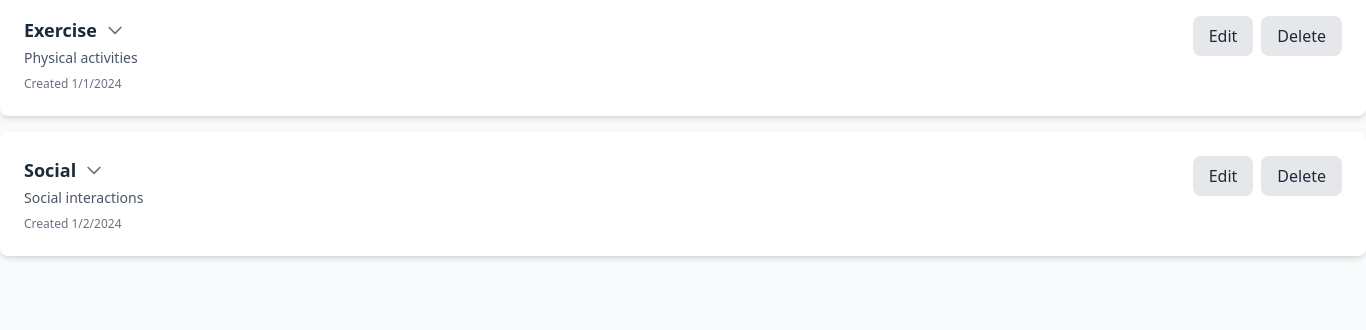
ActivityGroupList › Expand/Collapse Functionality (Task 3.3) › should toggle group expansion on click
Note: Click to expand
Click the button named "Expand group" next to "Exercise" at {"x": 115, "y": 30}, box [105, 20, 125, 40]
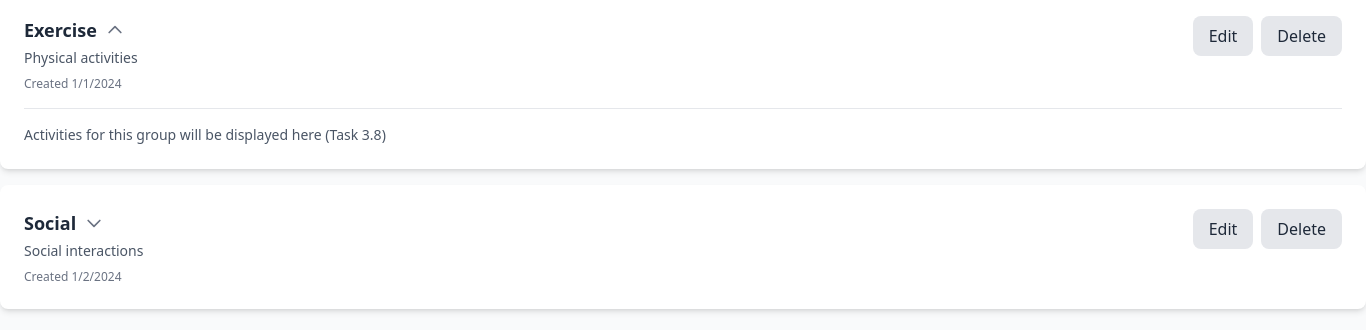
Result: the text "Activities for this group will be displayed here (Task 3.8)" is shown at [24, 125, 386, 144]
Result: the button named "Collapse group" is shown
Note: Click to collapse
Click the button named "Collapse group" at {"x": 115, "y": 30}, box [105, 20, 125, 40]
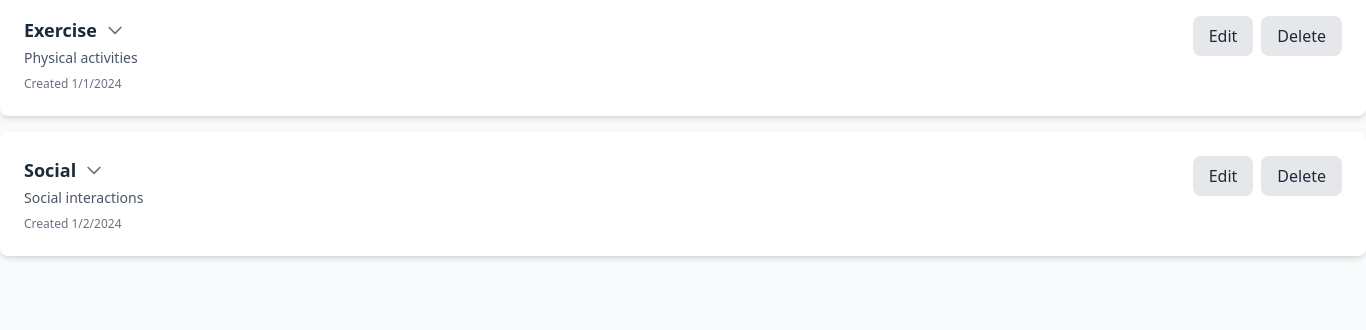
Result: the text "Activities for this group will be displayed here" is gone
